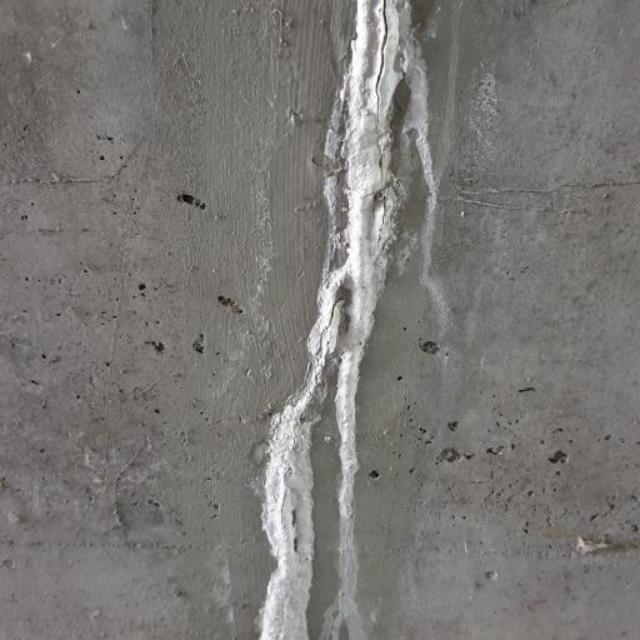D01: (262, 0, 441, 639)
